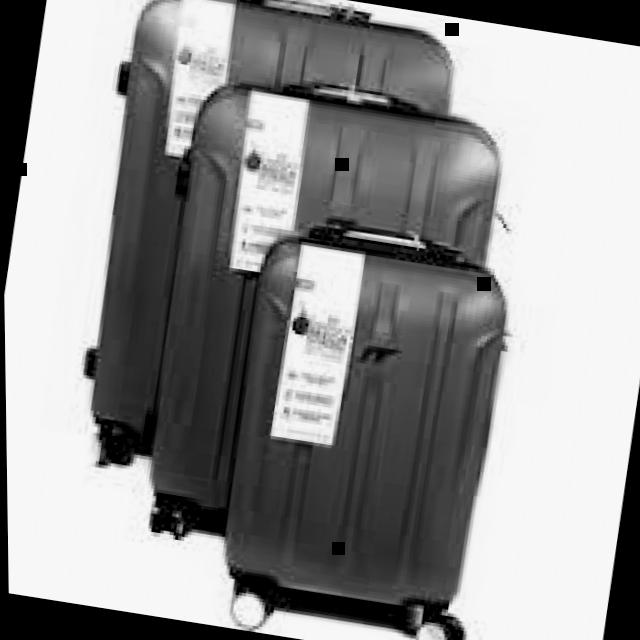luggage: (54, 0, 481, 520), (114, 53, 522, 577), (189, 194, 530, 636)
